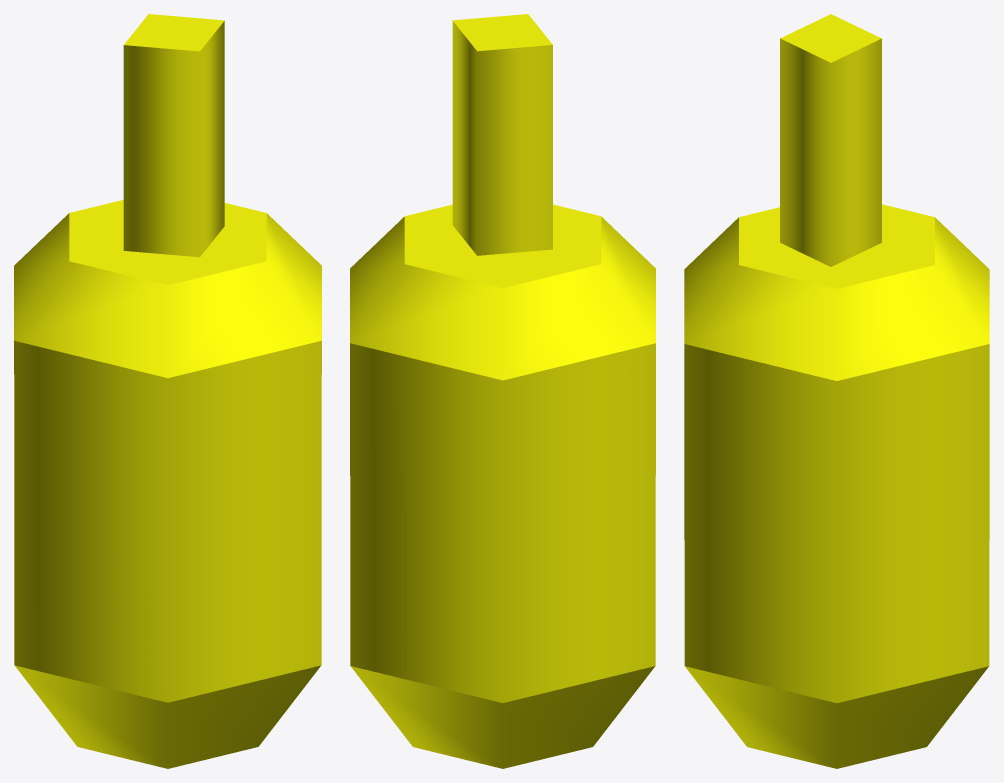
Rendered from projectile_grenade_japan.glb.
The picture shows the model from 3 angles, left to right: view 1: azimuth 30°, elevation 25°; view 2: azimuth 150°, elevation 25°; view 3: azimuth 270°, elevation 25°; orthographic projection.
Visible parts, largest first — view 1: projectile_grenade_japan; view 2: projectile_grenade_japan; view 3: projectile_grenade_japan.
Part boxes in pixels (left/top/right/bottom): projectile_grenade_japan: left=14, top=14, right=321, bottom=768; projectile_grenade_japan: left=350, top=14, right=655, bottom=768; projectile_grenade_japan: left=684, top=14, right=989, bottom=768.
Bounding box in the file's own units: 0.1717 × 0.3697 × 0.1487.
1 material, 1 textured.
